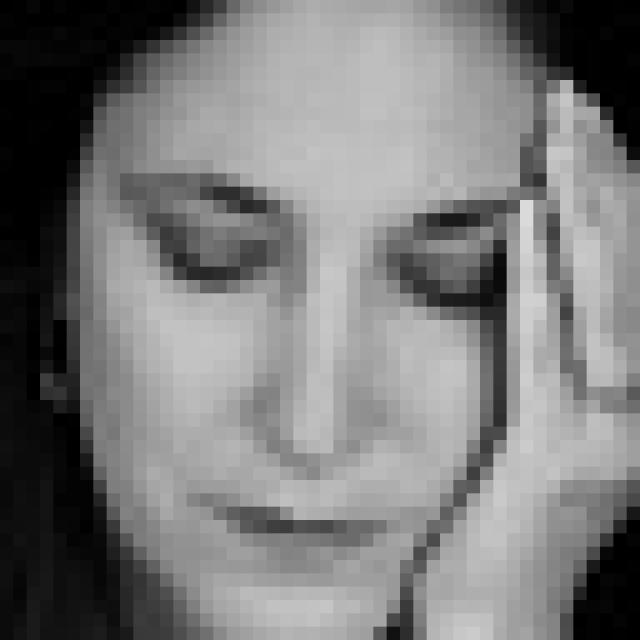sad: (111, 160, 519, 566)
